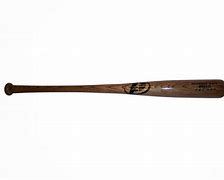bat: (4, 78, 224, 99)
